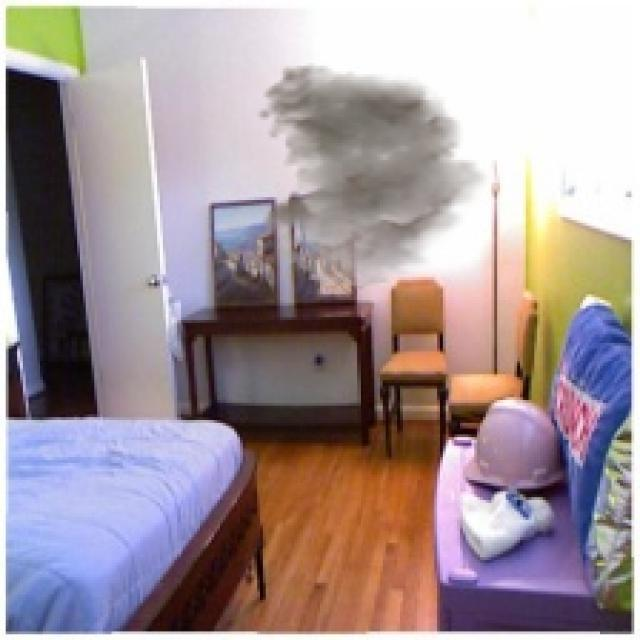Smoke: (257, 62, 492, 288)
